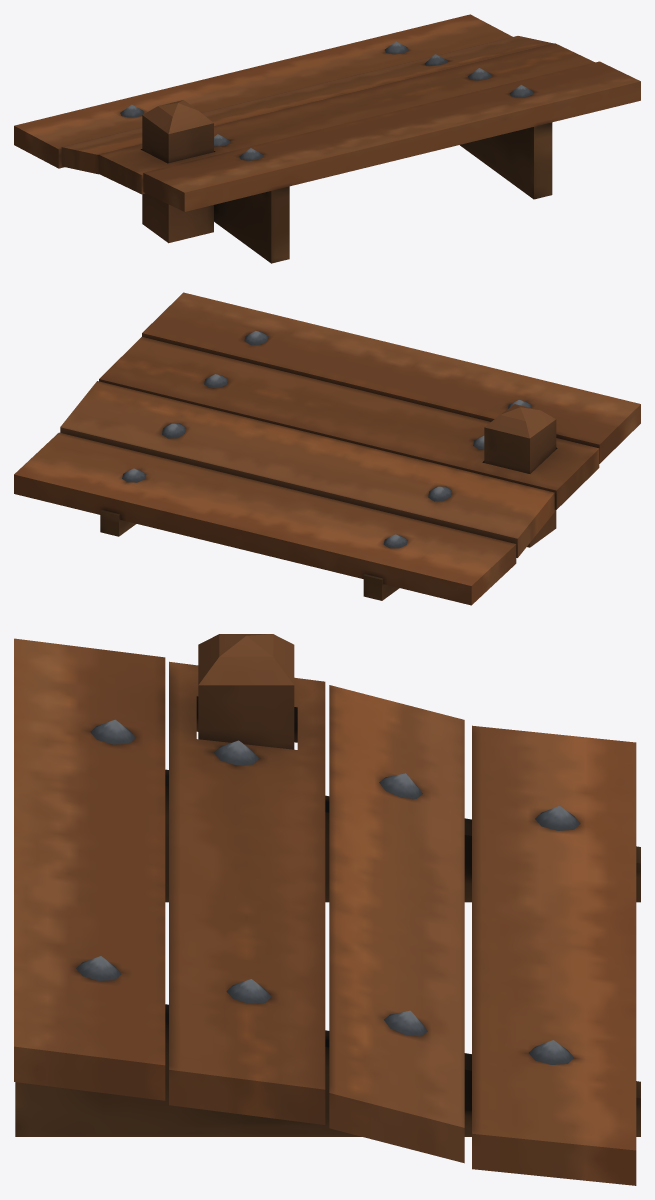
Rendered from 1PAv_Bois-Montee.FBX.
3 views of the same model, one above another, from view 1: azimuth 30°, elevation 25°; view 2: azimuth 150°, elevation 25°; view 3: azimuth 270°, elevation 25° (orthographic). The views are drawn at different scales.
Visible parts, largest first — view 1: 1PAv_Bois-Montee; view 2: 1PAv_Bois-Montee; view 3: 1PAv_Bois-Montee.
Part boxes in pixels (box(x1,y1,x2,y2)): 1PAv_Bois-Montee: box(14, 14, 640, 263); 1PAv_Bois-Montee: box(14, 292, 640, 605); 1PAv_Bois-Montee: box(14, 634, 640, 1185).
Size of the model in its own units: 6.18 by 1.62 by 4.01.
